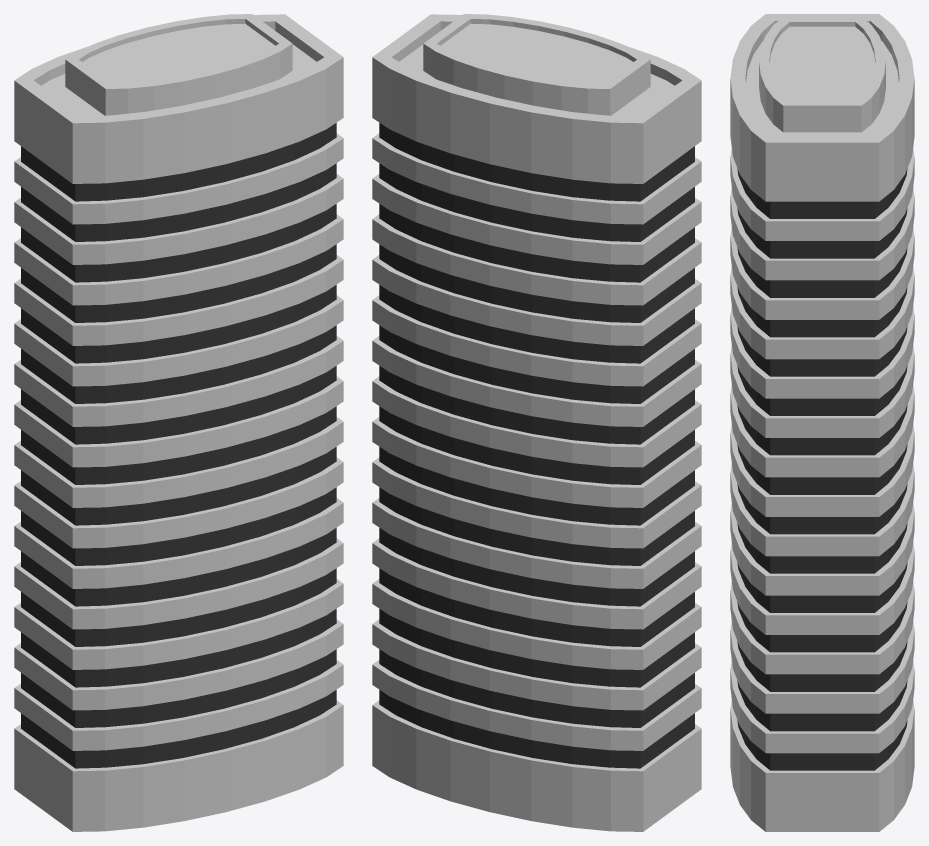
Rendered from spw-urban-bldg-06.glb.
3 renders of one model, left to right at view 1: azimuth 30°, elevation 25°; view 2: azimuth 150°, elevation 25°; view 3: azimuth 270°, elevation 25°, orthographic. The views are drawn at different scales.
Visible parts, largest first — view 1: SPW_Urban_Bldg_06; view 2: SPW_Urban_Bldg_06; view 3: SPW_Urban_Bldg_06.
Boxes of the visible parts, bbox=[...] form: SPW_Urban_Bldg_06: bbox=[14, 14, 343, 831]; SPW_Urban_Bldg_06: bbox=[372, 14, 701, 831]; SPW_Urban_Bldg_06: bbox=[730, 14, 914, 831].
Size of the model in its own units: 14 by 35.85 by 8.47.
Materials: 1 (1 with a texture image).
